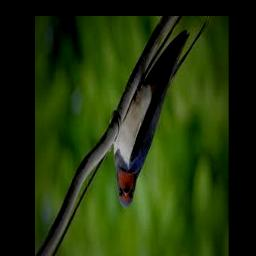Swallow: (113, 20, 208, 209)
